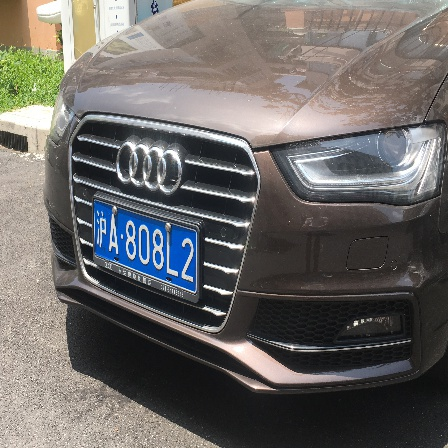plate: (88, 193, 206, 297)
